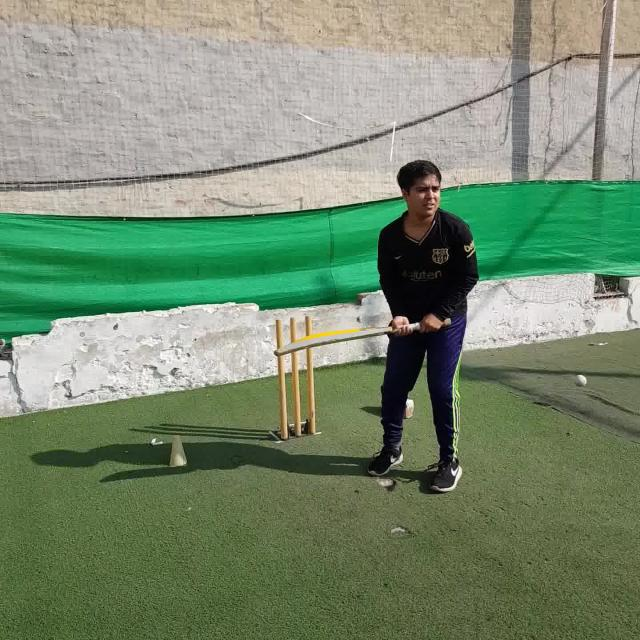ball: (575, 375, 587, 389)
bat: (276, 320, 450, 352)
